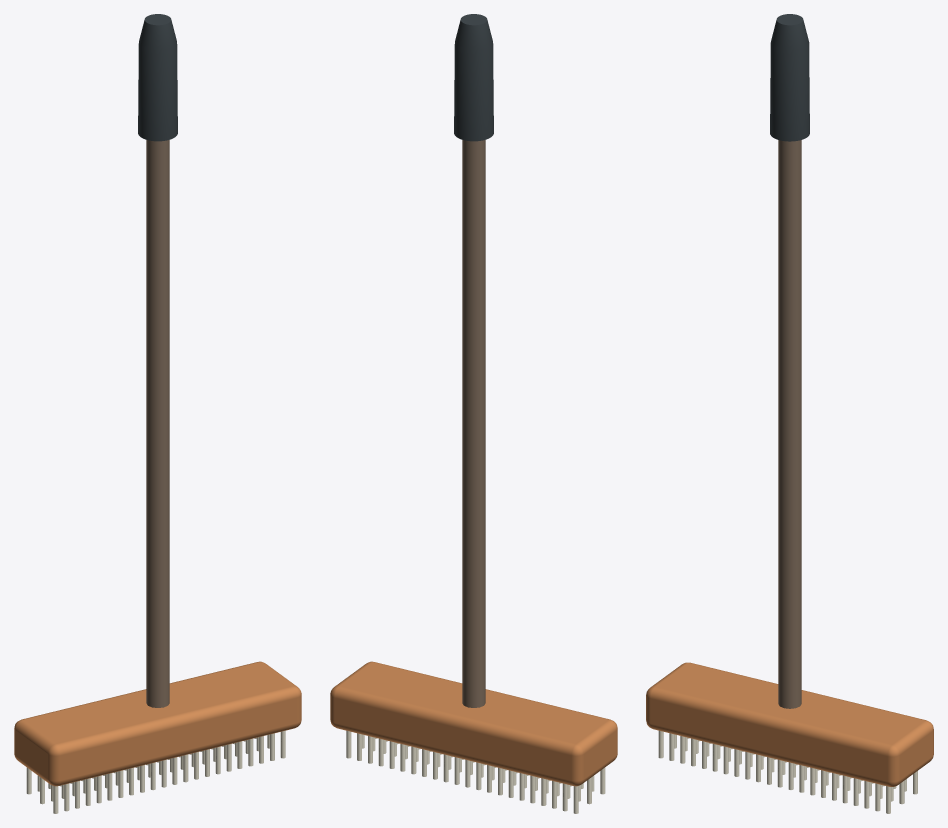
File: abandoned-weather-station-and-storm-shelter-snow-brush-376cdfac__31050.glb
3 views of the same model, side by side, from view 1: azimuth 30°, elevation 25°; view 2: azimuth 150°, elevation 25°; view 3: azimuth 330°, elevation 25° (orthographic).
Visible parts, largest first — view 1: snow-brush; view 2: snow-brush; view 3: snow-brush.
Part boxes in pixels (box(x1,y1,x2,y2)): snow-brush: box(14, 14, 301, 813); snow-brush: box(330, 14, 617, 813); snow-brush: box(646, 14, 933, 813).
Size of the model in its own units: 0.35 by 1 by 0.1.
